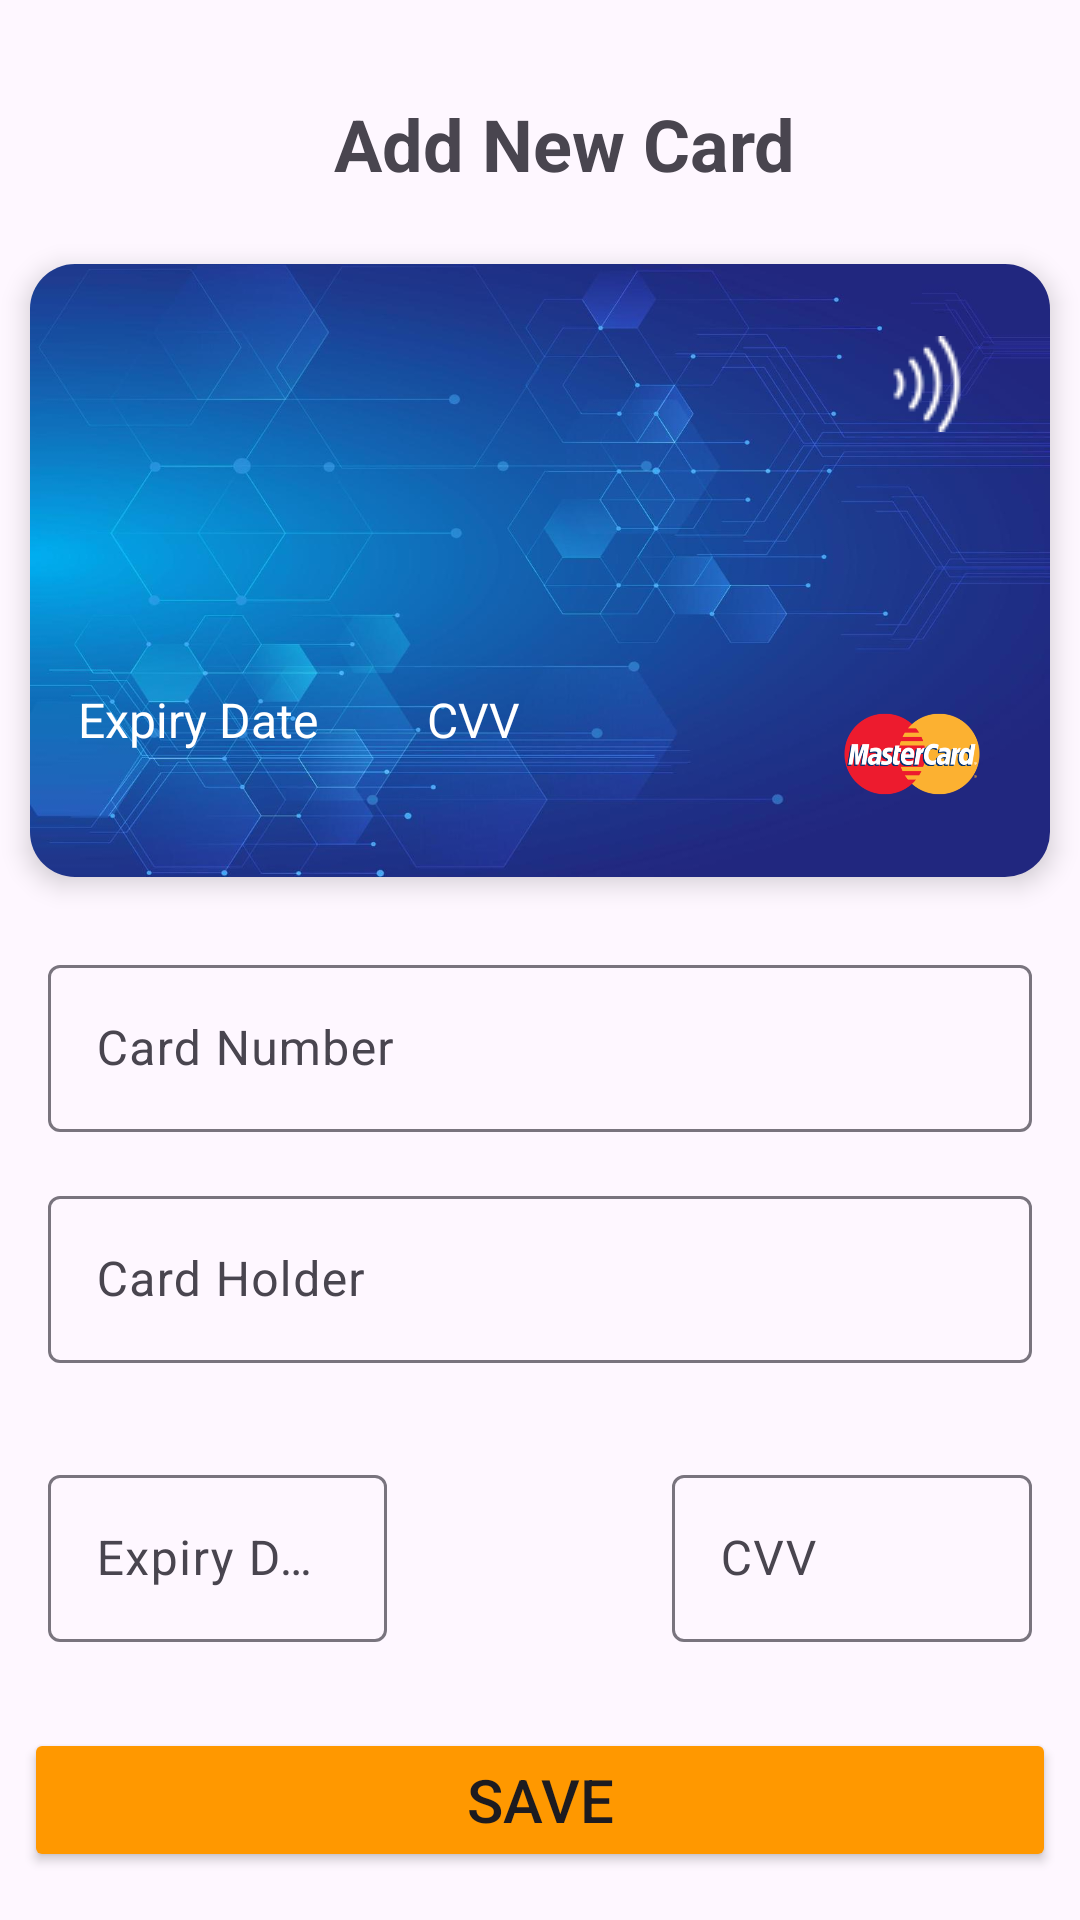

Icon bounding boxes for this 1080px×1920px phone screenshot, format (x1, y1, x2, y2):
contactless: (893, 337, 993, 422)
